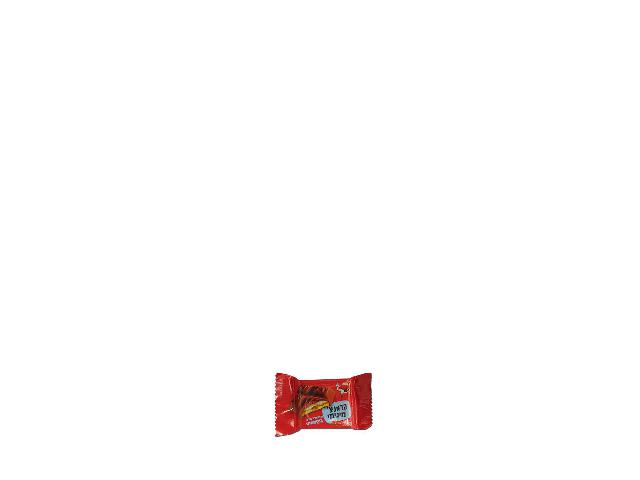chocolate: (274, 373, 380, 443)
